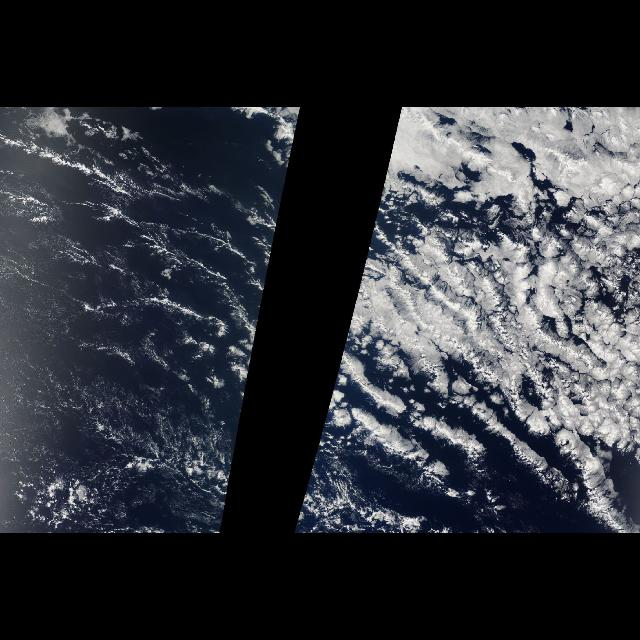Flower: (300, 182, 634, 508)
Sugar: (4, 230, 162, 470)
